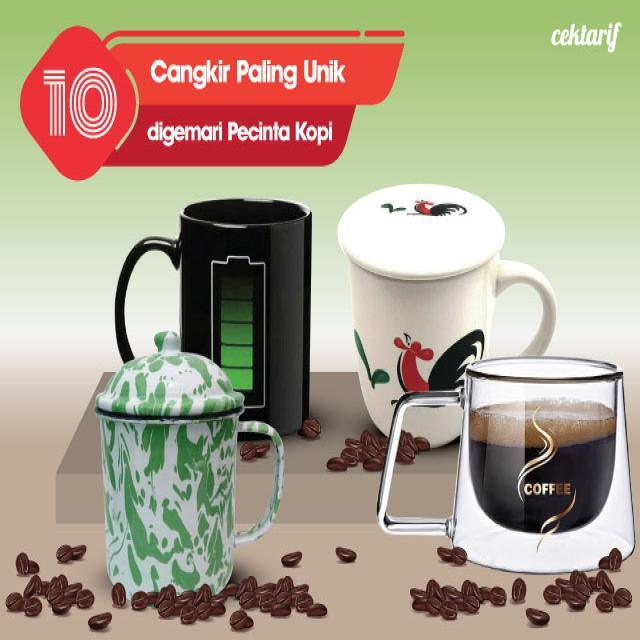cup: (92, 324, 290, 601)
